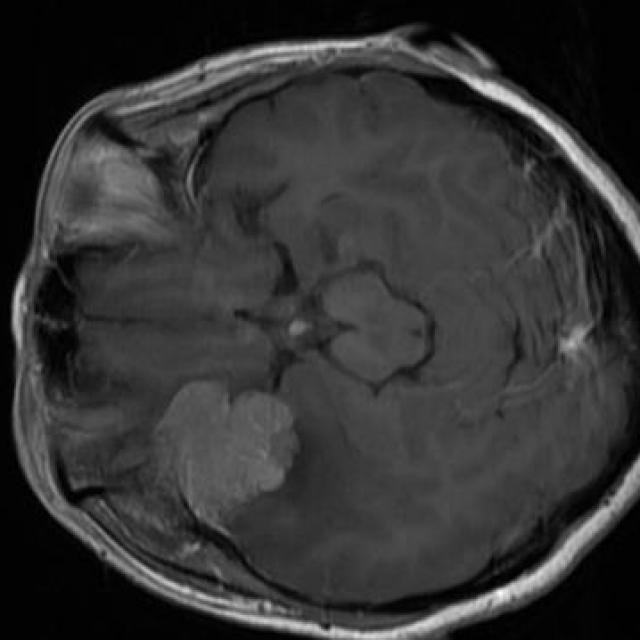meningioma: (155, 382, 299, 529)
